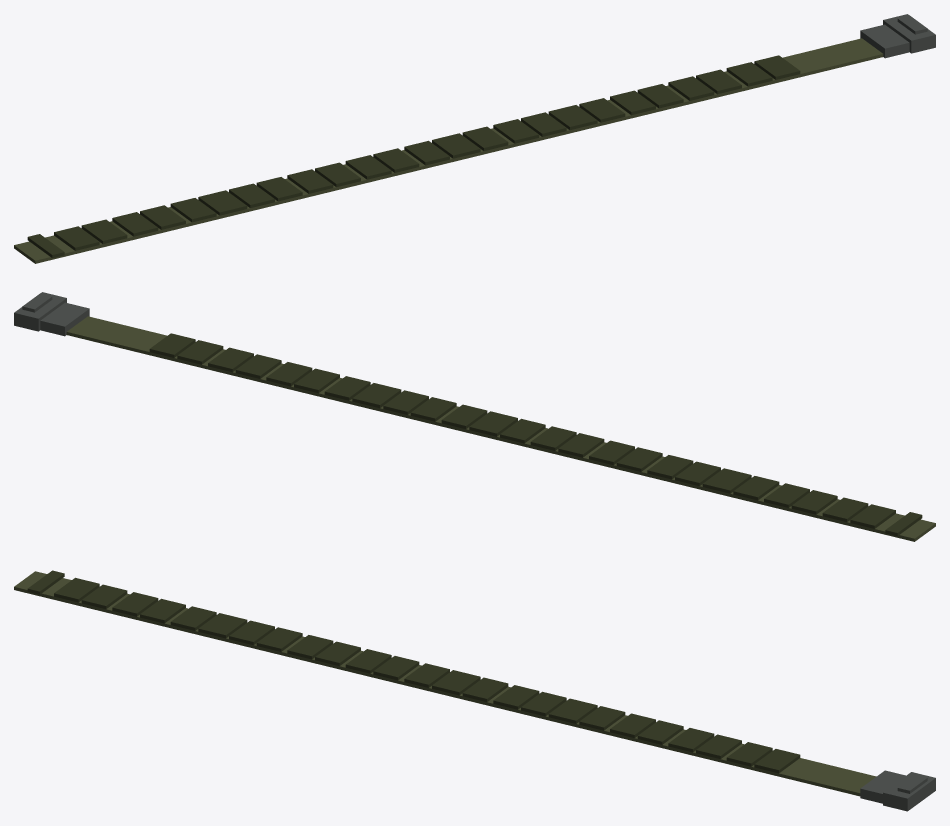
Rendered from webbing_belt.glb.
3 views of the same model, one above another, from view 1: azimuth 30°, elevation 25°; view 2: azimuth 150°, elevation 25°; view 3: azimuth 330°, elevation 25° (orthographic).
Visible parts, largest first — view 1: webbing_belt:compound; view 2: webbing_belt:compound; view 3: webbing_belt:compound.
Boxes of the visible parts, x1=… form: webbing_belt:compound: x1=14, y1=14, x2=935, y2=263; webbing_belt:compound: x1=14, y1=292, x2=935, y2=541; webbing_belt:compound: x1=14, y1=570, x2=935, y2=811.
Size of the model in its own units: 1.17 by 0.02 by 0.064.
